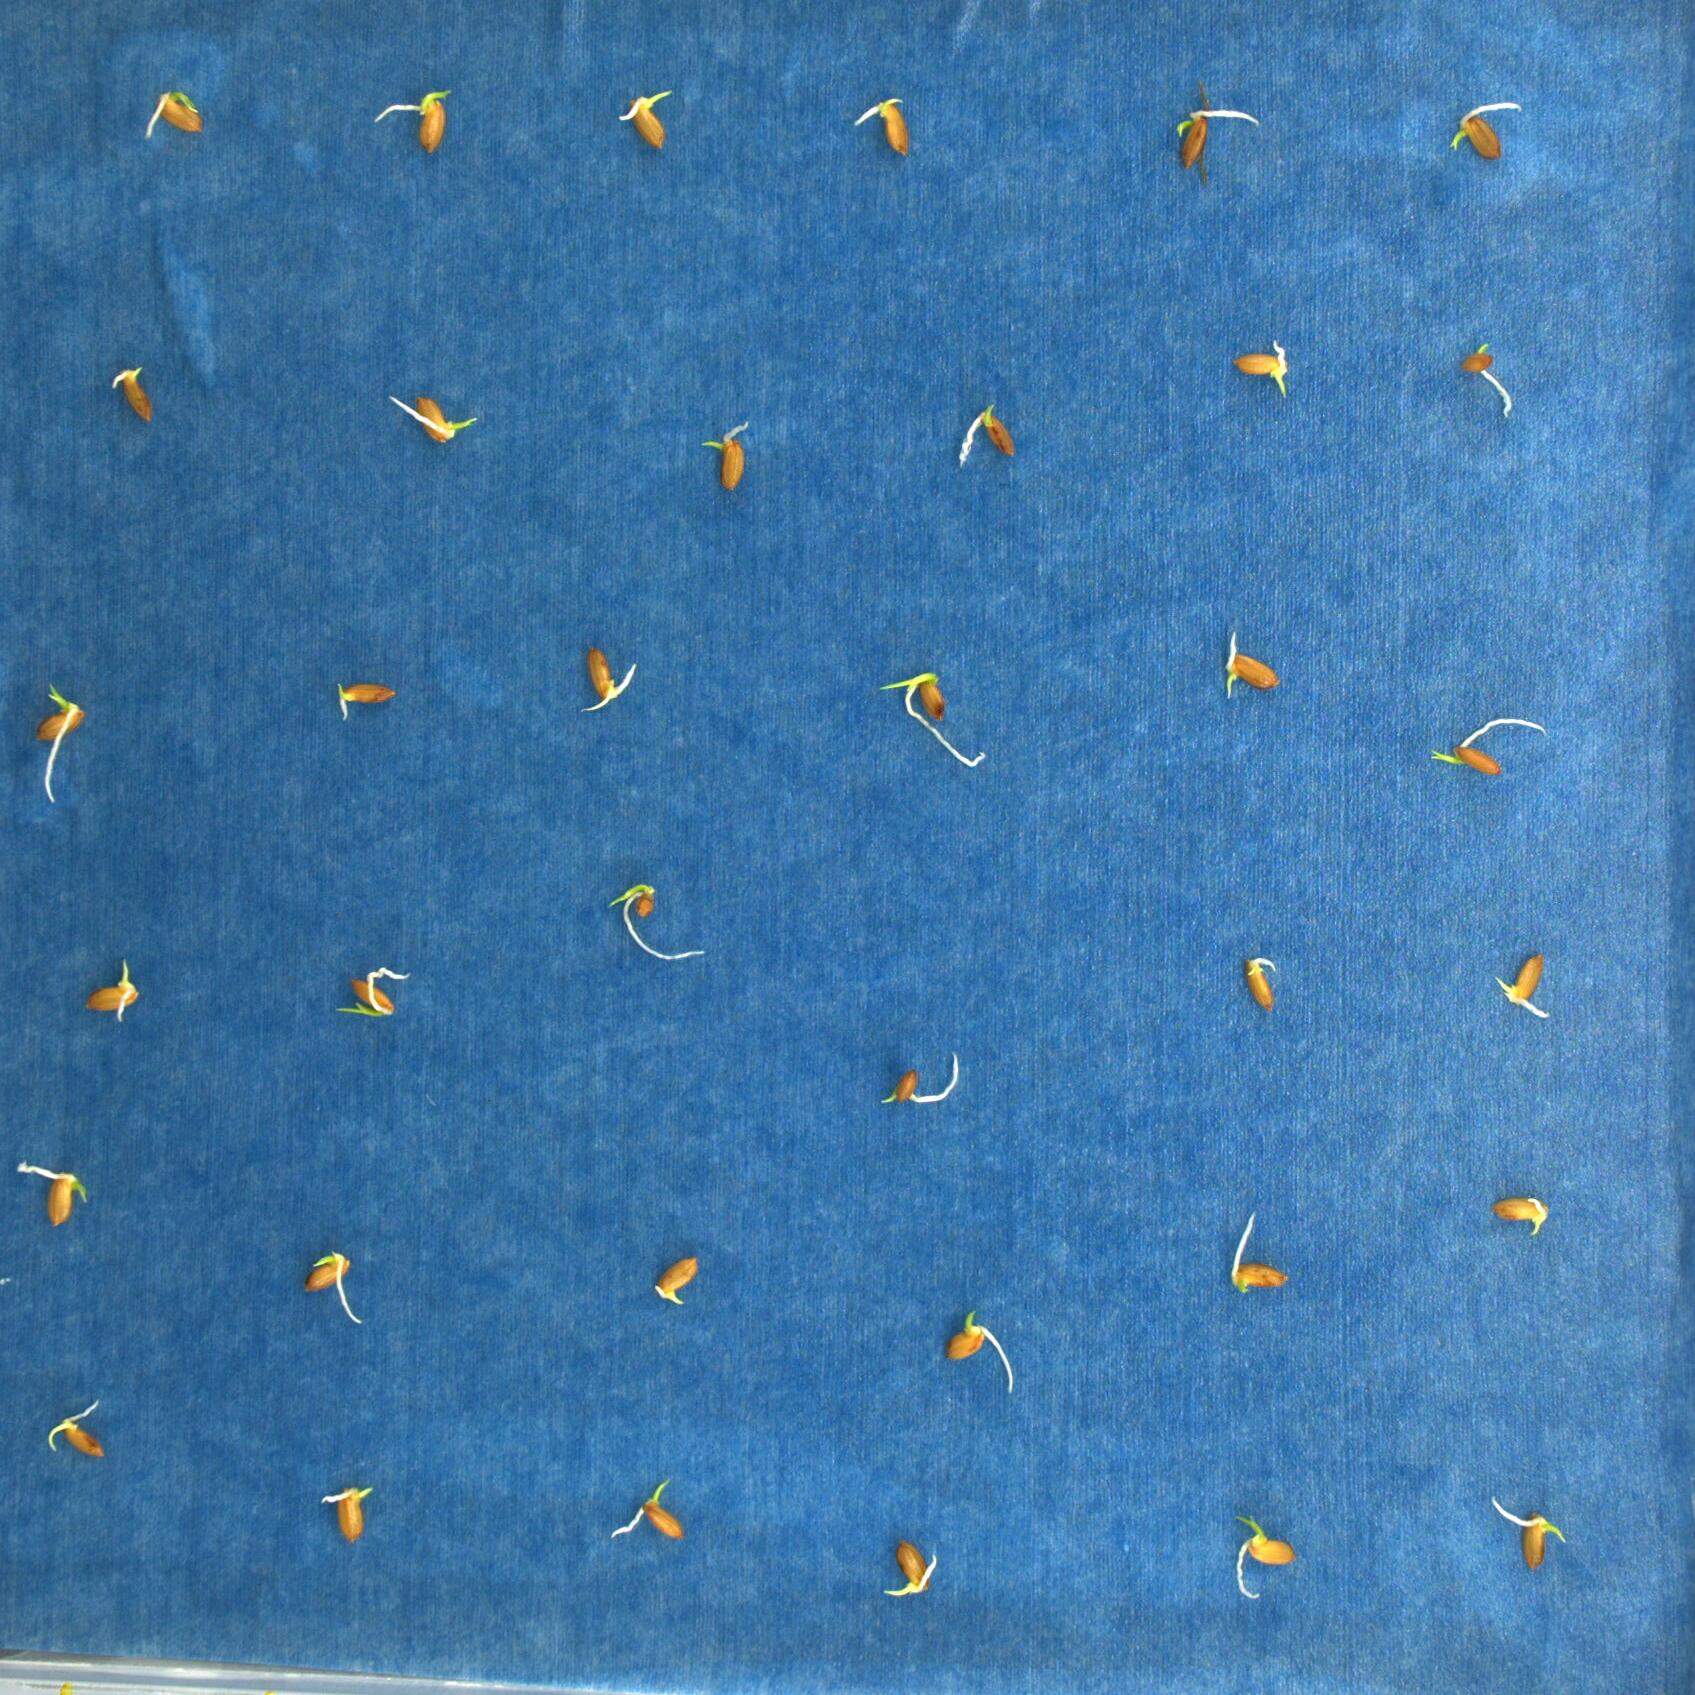not sprout: (1231, 1211, 1291, 1295), (880, 1052, 961, 1107), (1490, 951, 1551, 1020), (581, 646, 640, 716), (1223, 630, 1281, 702), (1461, 341, 1513, 418), (958, 404, 1017, 470), (320, 1485, 374, 1540), (1487, 1195, 1554, 1237), (110, 365, 155, 427), (334, 680, 397, 723), (653, 1254, 703, 1305), (1242, 959, 1281, 1014)
sprout: (879, 671, 986, 768), (1433, 714, 1552, 781), (605, 885, 706, 962), (36, 685, 85, 806), (944, 1310, 1017, 1392), (1492, 1495, 1568, 1571), (1173, 99, 1257, 168), (1234, 1513, 1298, 1599), (374, 85, 452, 154), (610, 1479, 685, 1544), (19, 1163, 90, 1229), (388, 393, 478, 441), (307, 1246, 359, 1329), (1450, 101, 1518, 160), (621, 88, 678, 155), (84, 958, 140, 1026), (879, 1540, 941, 1600), (334, 967, 407, 1018), (857, 93, 913, 158), (47, 1400, 109, 1458), (702, 421, 748, 494), (1231, 341, 1290, 397), (144, 92, 200, 135)
